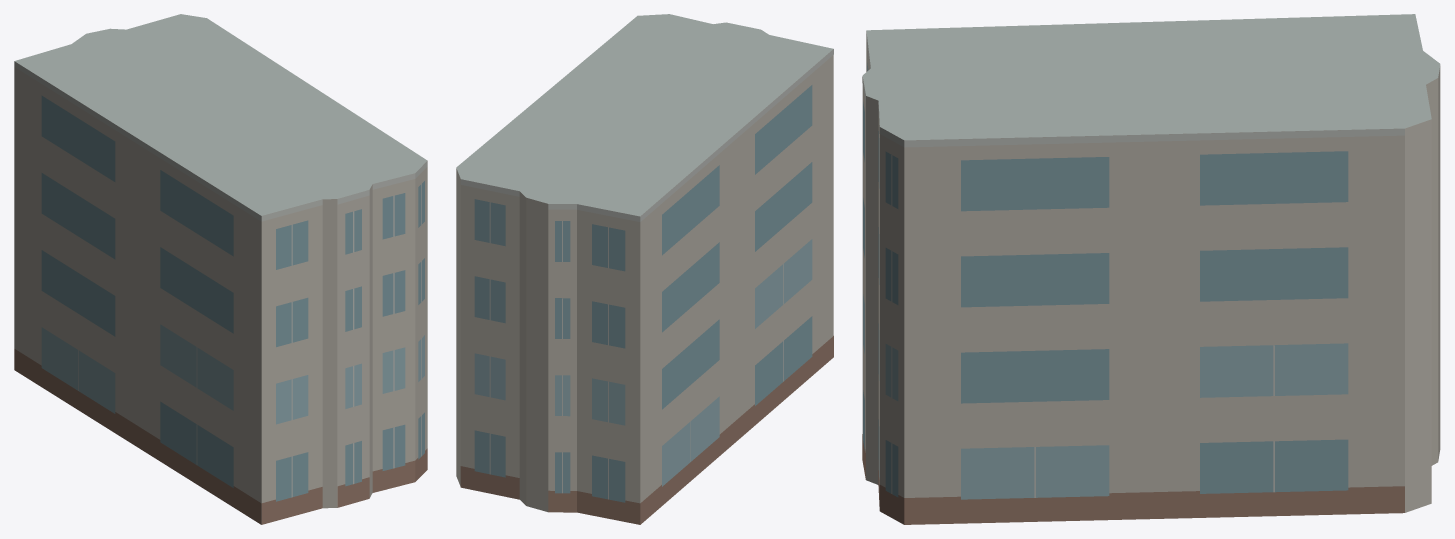
Rendered from survey-upis-32613002.glb.
3 renders of one model, left to right at view 1: azimuth 30°, elevation 25°; view 2: azimuth 150°, elevation 25°; view 3: azimuth 270°, elevation 25°, orthographic. The views are drawn at different scales.
Parts seen in each view (by area): view 1: survey-upis-32613002.tmp; view 2: survey-upis-32613002.tmp; view 3: survey-upis-32613002.tmp.
Boxes of the visible parts, box(x1,y1,x2,y2) form: survey-upis-32613002.tmp: box(14, 14, 427, 524); survey-upis-32613002.tmp: box(456, 14, 833, 524); survey-upis-32613002.tmp: box(862, 14, 1440, 524).
Size of the model in its own units: 9.32 by 13.2 by 17.99.
